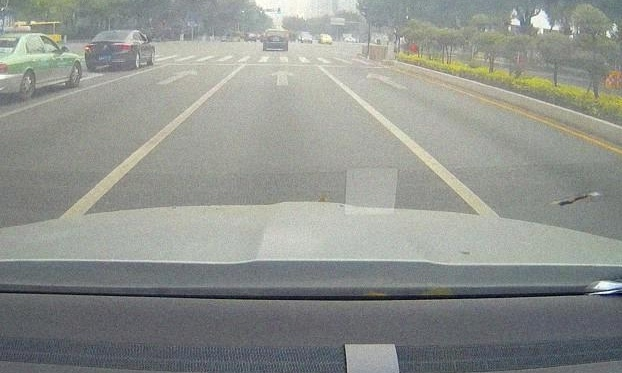L_light: (85, 44, 94, 50)
R_light: (118, 44, 130, 49)
T_light: (112, 32, 119, 34)
day-no: (84, 29, 132, 69)
